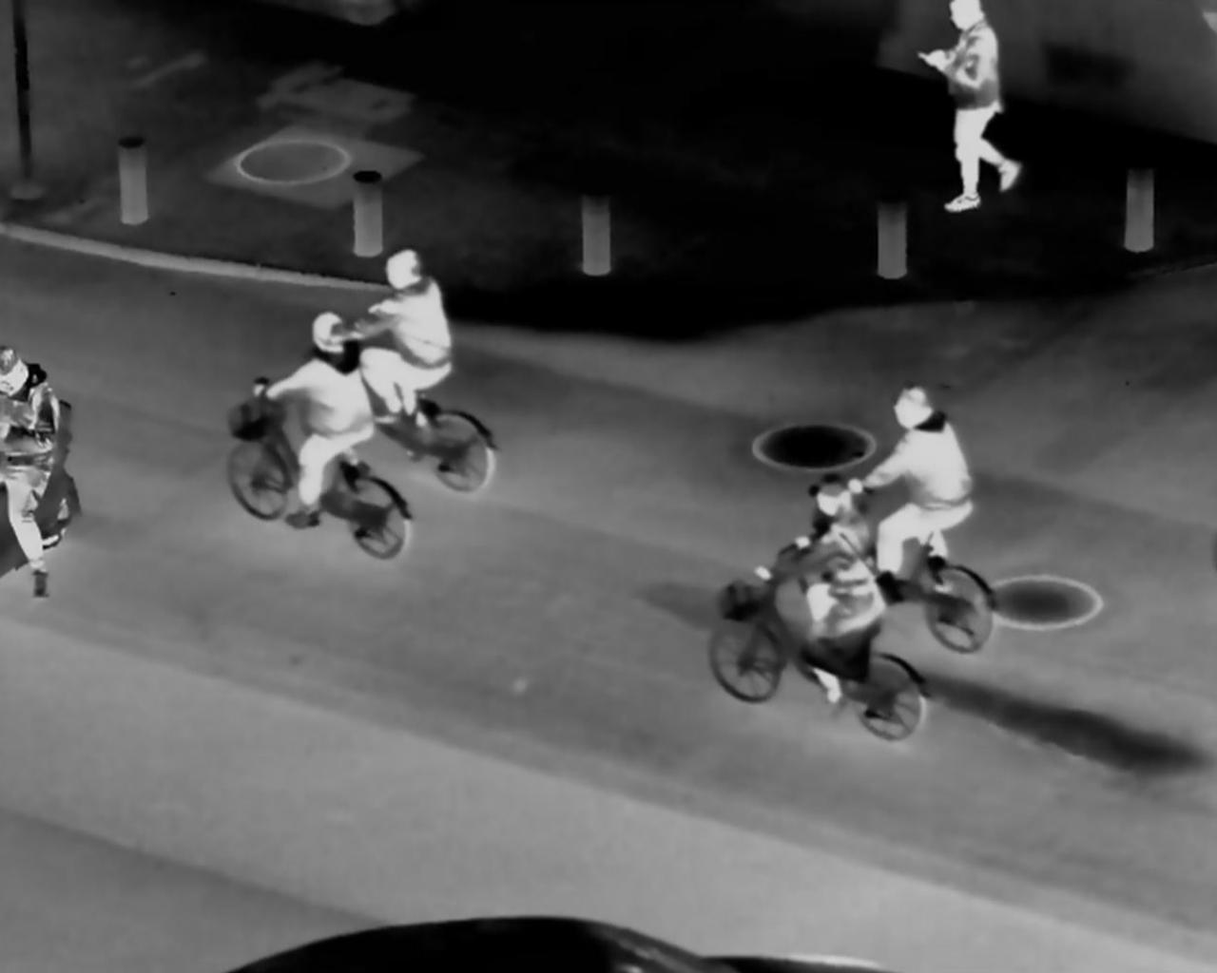person: (774, 459, 882, 727), (253, 301, 371, 533), (861, 379, 973, 583), (918, 3, 1022, 219), (352, 241, 457, 440), (3, 338, 69, 598)
